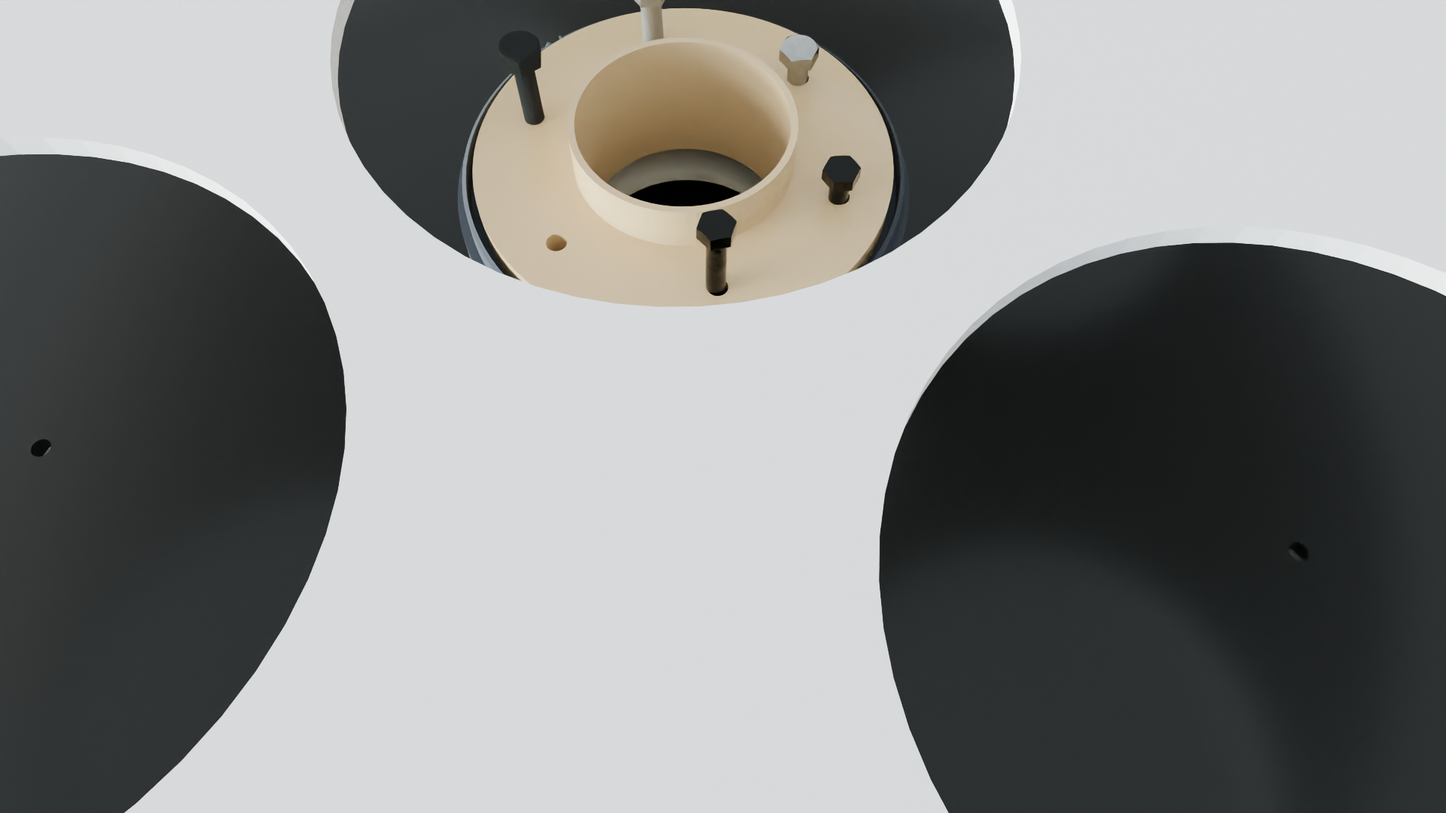bolt: (499, 30, 538, 65), (696, 209, 737, 242), (822, 155, 861, 183), (779, 35, 819, 62)
